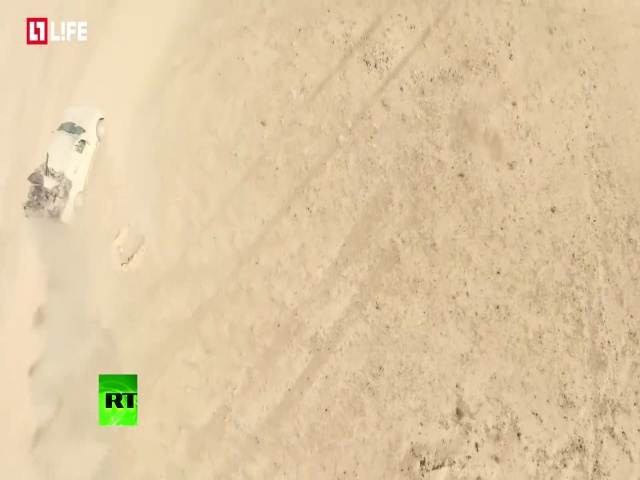vehicle: (23, 105, 108, 228)
